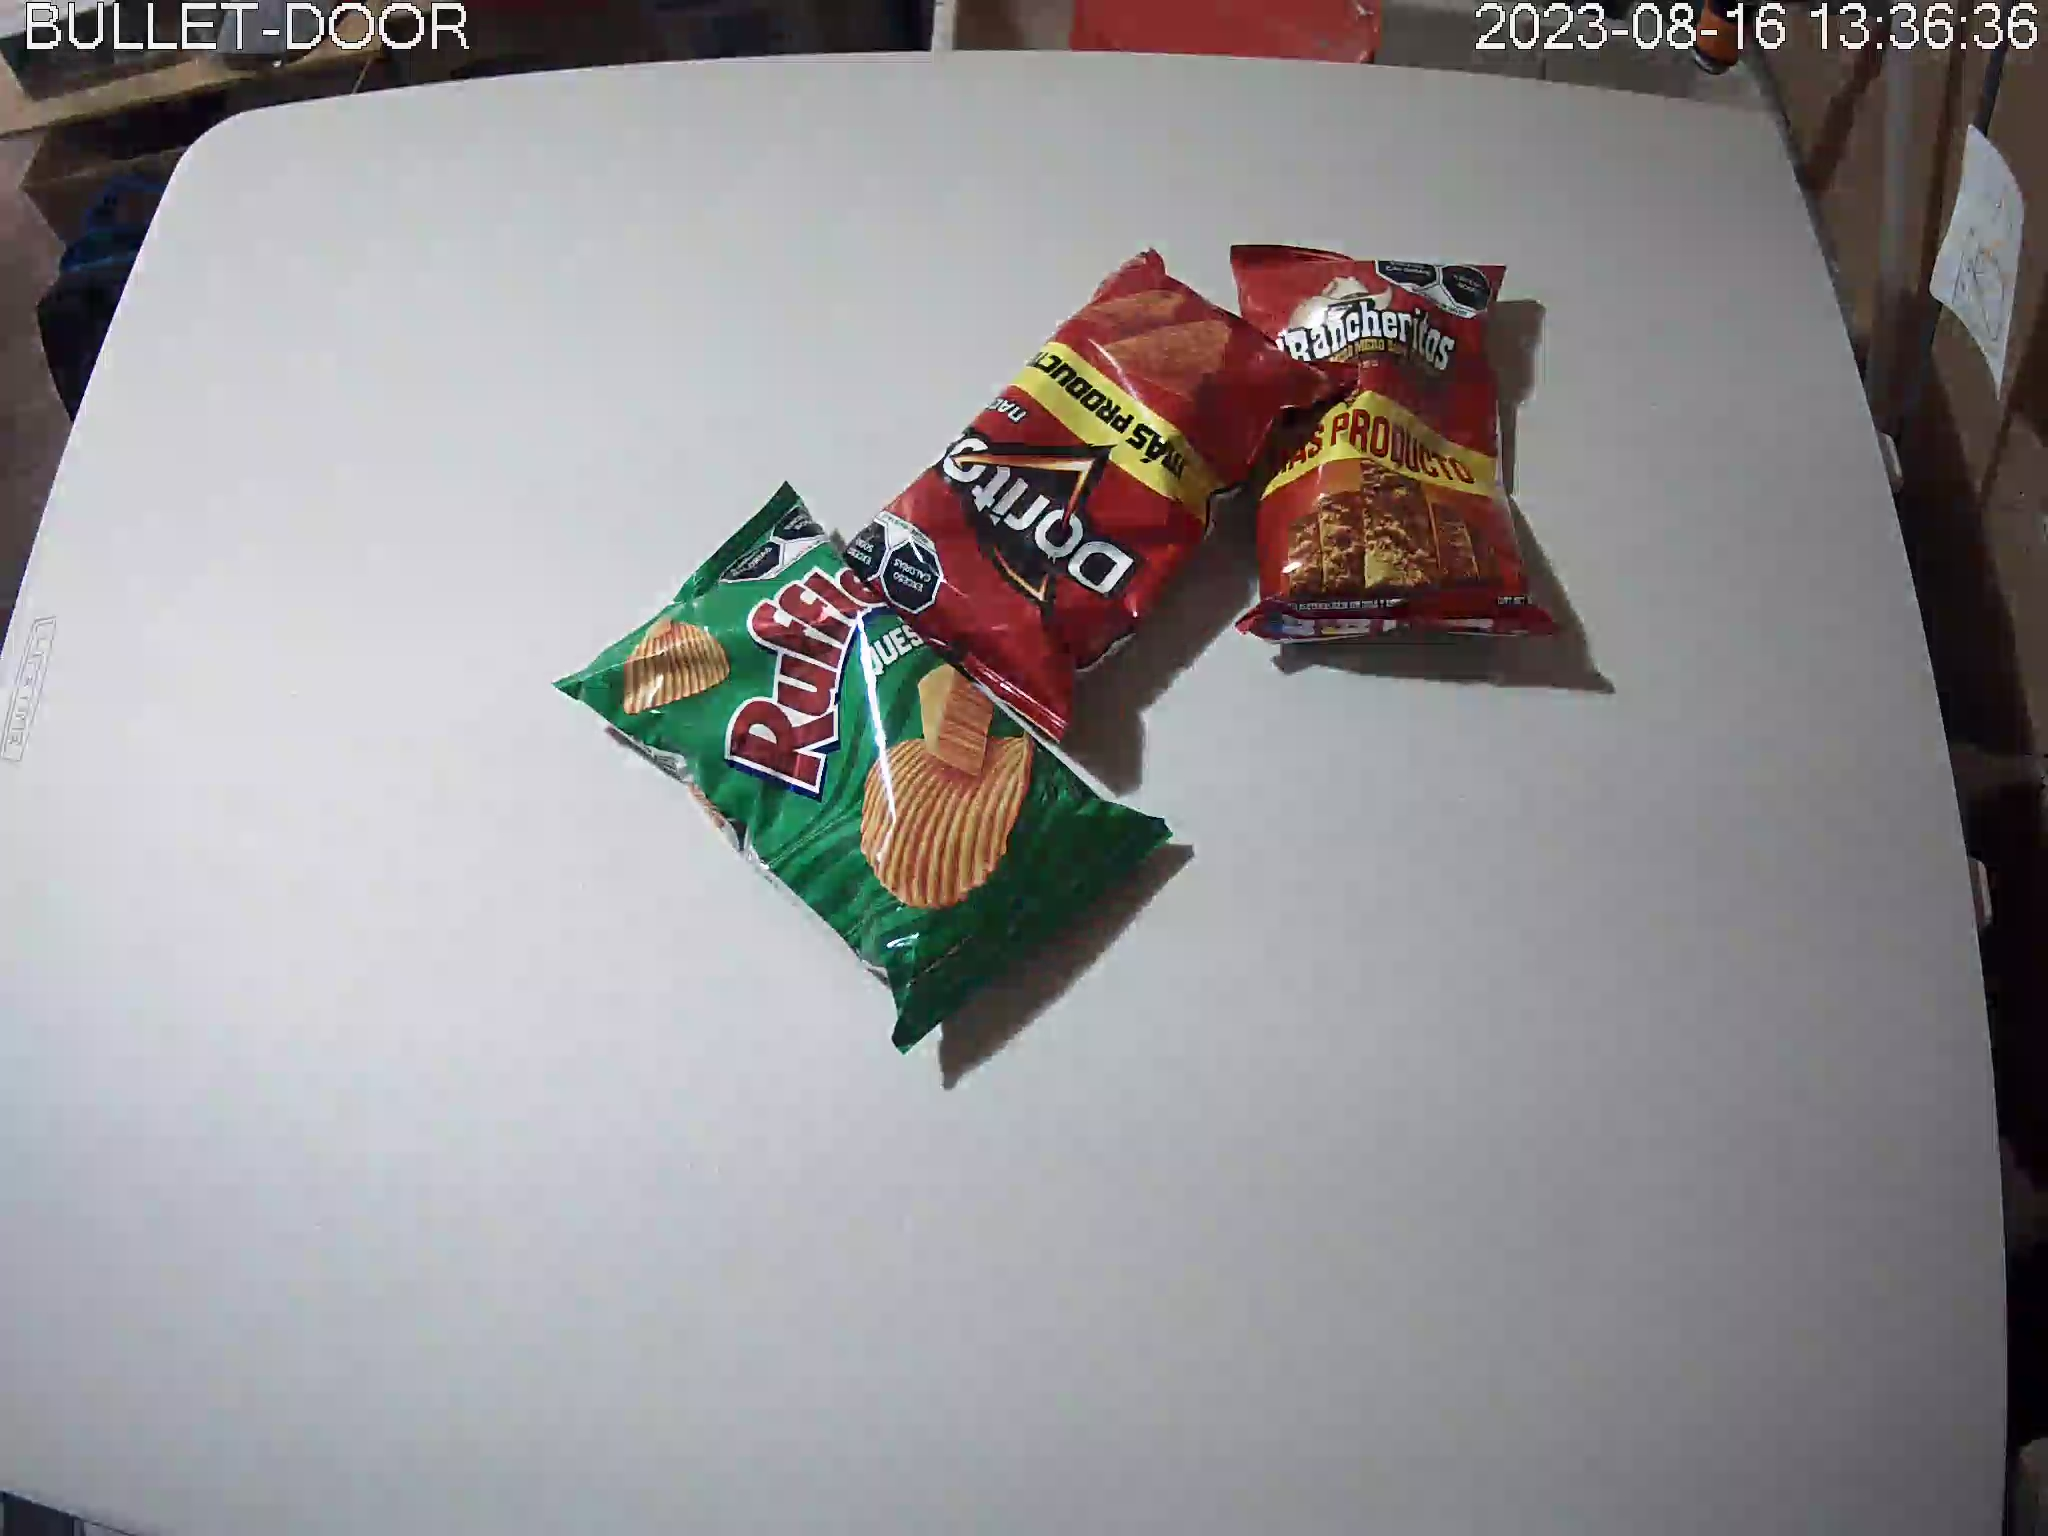DoritosN_61_F: (830, 247, 1361, 750)
Rancheritos_58_F: (1229, 240, 1567, 650)
RufflesQ_48_F: (553, 482, 1177, 1057)
